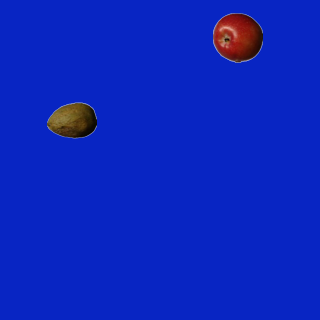Apple Braeburn: (212, 12, 262, 62)
Papaya: (46, 95, 96, 145)
